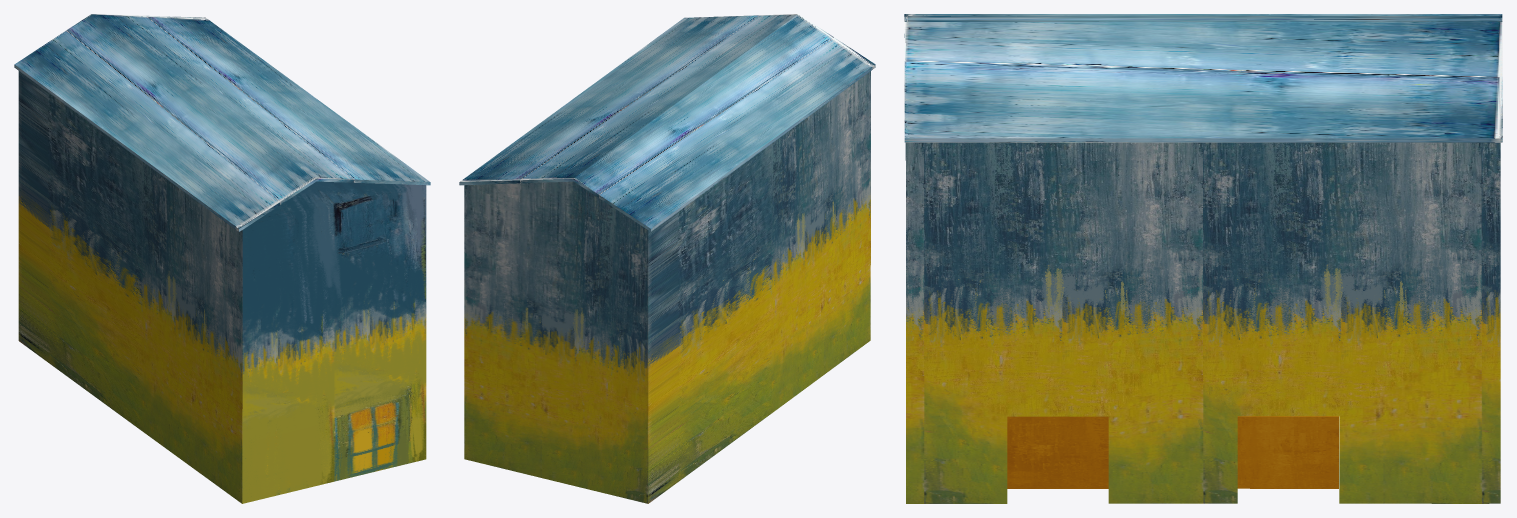
The model's file is build_001.fbx.
The picture shows the model from 3 angles, left to right: view 1: azimuth 30°, elevation 25°; view 2: azimuth 150°, elevation 25°; view 3: azimuth 270°, elevation 25°; orthographic projection. The views are drawn at different scales.
Parts seen in each view (by area): view 1: Cube.397, Object035, Cube.398; view 2: Cube.397, Cube.398; view 3: Cube.397, Cube.398, Object032.
Part boxes in pixels (x1,y1,x2,y2): Cube.397: (18, 71, 242, 503); Object035: (242, 181, 426, 503); Cube.398: (14, 14, 430, 231); Cube.397: (464, 71, 870, 503); Cube.398: (459, 14, 875, 231); Cube.397: (906, 142, 1500, 503); Cube.398: (904, 14, 1502, 142); Object032: (1007, 416, 1338, 488).
Bounding box in the file's own units: 552 × 850 × 1122.
